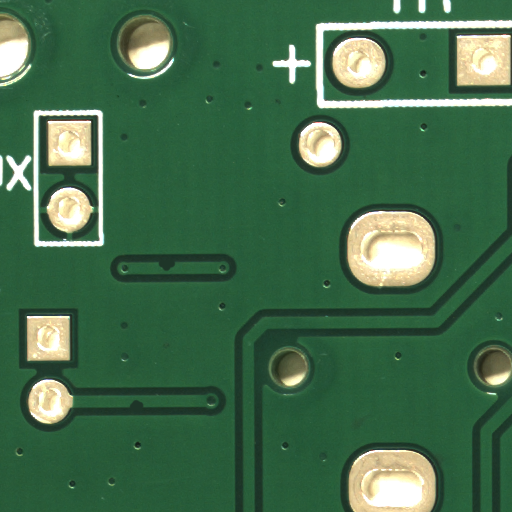Mouse_bite: (168, 265, 186, 276), (136, 405, 151, 415)
